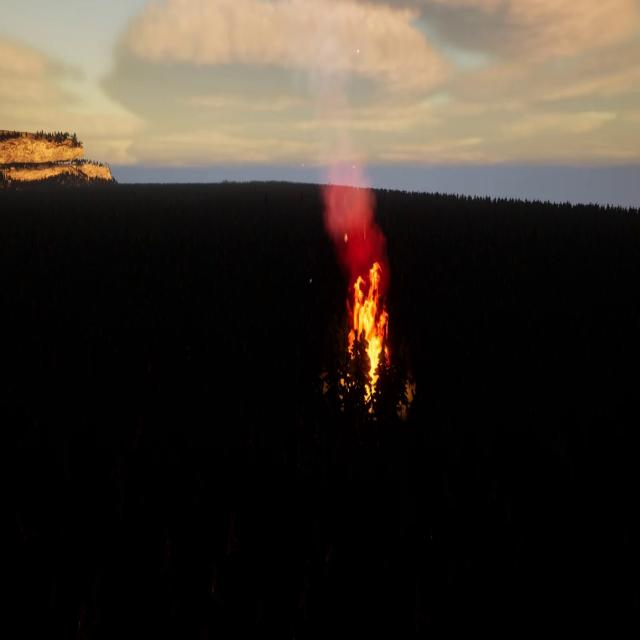fire: (338, 265, 414, 406)
smoke: (320, 124, 390, 282)
